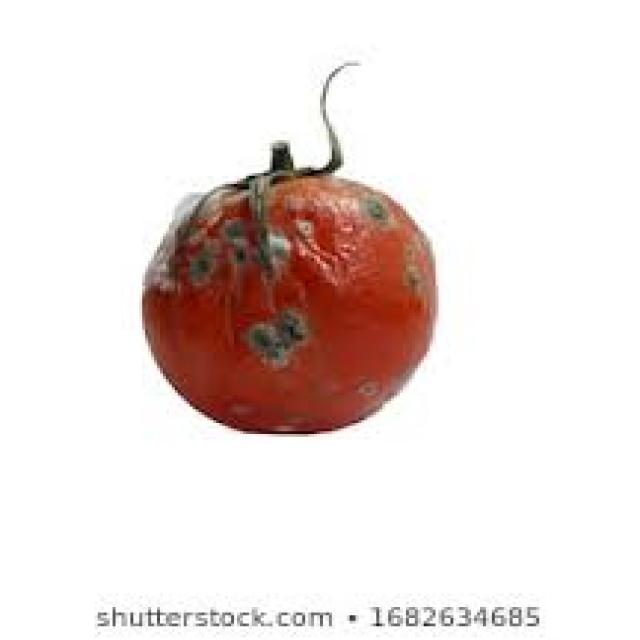organic waste: (136, 58, 438, 428)
